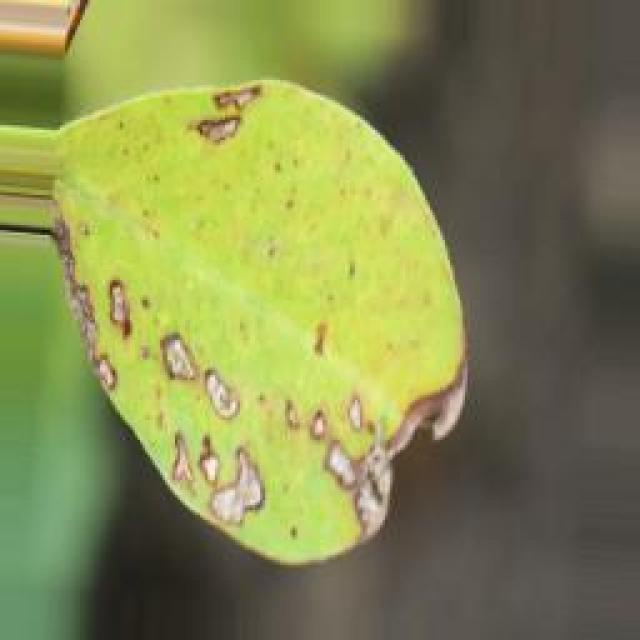Yellowish: (41, 87, 493, 574)
